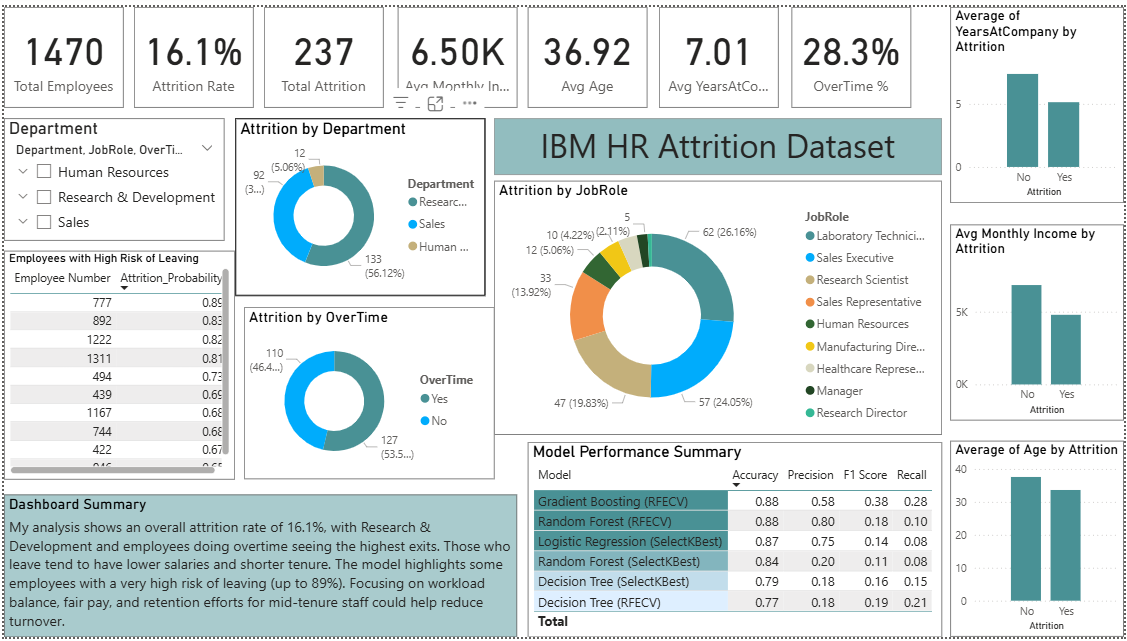

What the dashboard file says about the page in this screenshot:
{"tool":"powerbi","page":{"name":"Page 1","canvas":[1280,720],"ordinal":0},"visuals":[{"type":"tableEx","title":"Model Performance Summary","fields":{"Values":["model_summary.Model","model_summary.Accuracy","model_summary.Precision","model_summary.F1 Score","model_summary.Recall"]},"box":[598.3,496.7,473.3,223.3],"z":0},{"type":"card","fields":{"Values":["WA_Fn-UseC_-HR-Employee-Attrition.Attrition Rate"]},"box":[148.3,0,136.7,115],"z":1000},{"type":"card","fields":{"Values":["WA_Fn-UseC_-HR-Employee-Attrition.Total Employees"]},"box":[0,0,136.7,115],"z":2000},{"type":"card","fields":{"Values":["WA_Fn-UseC_-HR-Employee-Attrition.Total Attrition"]},"box":[296.7,0,136.7,115],"z":3000},{"type":"card","fields":{"Values":["WA_Fn-UseC_-HR-Employee-Attrition.Avg Monthly Income"]},"box":[450,0,136.7,115],"z":4000},{"type":"card","fields":{"Values":["WA_Fn-UseC_-HR-Employee-Attrition.Avg Age"]},"box":[598.3,0,136.7,115],"z":5000},{"type":"card","fields":{"Values":["WA_Fn-UseC_-HR-Employee-Attrition.Avg YearsAtCompany"]},"box":[748.3,0,136.7,115],"z":6000},{"type":"card","fields":{"Values":["WA_Fn-UseC_-HR-Employee-Attrition.OverTime %"]},"box":[900,0,136.7,115],"z":7000},{"type":"donutChart","title":"Attrition by Department","fields":{"Category":["WA_Fn-UseC_-HR-Employee-Attrition.Department"],"Y":["CountNonNull(WA_Fn-UseC_-HR-Employee-Attrition.Attrition)"]},"box":[263.7,126.9,286.1,202.8],"z":8000},{"type":"donutChart","title":"Attrition by JobRole","fields":{"Y":["CountNonNull(WA_Fn-UseC_-HR-Employee-Attrition.Attrition)"],"Category":["WA_Fn-UseC_-HR-Employee-Attrition.JobRole"]},"box":[560,198.3,511.7,290],"z":9000},{"type":"donutChart","title":"Attrition by OverTime","fields":{"Y":["CountNonNull(WA_Fn-UseC_-HR-Employee-Attrition.Attrition)"],"Category":["WA_Fn-UseC_-HR-Employee-Attrition.OverTime"]},"box":[273.7,343.3,286.1,196.5],"z":10000},{"type":"clusteredColumnChart","fields":{"Y":["WA_Fn-UseC_-HR-Employee-Attrition.Avg Monthly Income"],"Category":["WA_Fn-UseC_-HR-Employee-Attrition.Attrition"]},"box":[1082,248,198,224],"z":11000},{"type":"clusteredColumnChart","fields":{"Category":["WA_Fn-UseC_-HR-Employee-Attrition.Attrition"],"Y":["Avg(WA_Fn-UseC_-HR-Employee-Attrition.YearsAtCompany)"]},"box":[1082,0,198,224],"z":12000},{"type":"clusteredColumnChart","fields":{"Y":["Avg(WA_Fn-UseC_-HR-Employee-Attrition.Age)"],"Category":["WA_Fn-UseC_-HR-Employee-Attrition.Attrition"]},"box":[1082,496,198,224],"z":13000},{"type":"slicer","title":"Department","fields":{"Values":["WA_Fn-UseC_-HR-Employee-Attrition.Department","WA_Fn-UseC_-HR-Employee-Attrition.JobRole","WA_Fn-UseC_-HR-Employee-Attrition.OverTime"]},"box":[0,126.7,251.7,140],"z":14000},{"type":"tableEx","title":"Employees with High Risk of Leaving","fields":{"Values":["top10_risk_new.EmployeeIndex","top10_risk_new.Attrition_Probability"]},"box":[0,278.6,263.7,261.2],"z":15000},{"type":"textbox","title":"Dashboard Summary","box":[0,556.7,586.7,163.3],"z":16000},{"type":"textbox","box":[560,126.7,511.7,65],"z":17000}]}

Visuals, with their boxes in screenshot pixels (x1, y1, x2, y2), scaled from the page's 1280x720 canvas onto the 1127x641 screenshot:
"Model Performance Summary" tableEx: (527,442,944,640)
card - WA_Fn-UseC_-HR-Employee-Attrition.Attrition Rate: (131,0,251,102)
card - WA_Fn-UseC_-HR-Employee-Attrition.Total Employees: (0,0,120,102)
card - WA_Fn-UseC_-HR-Employee-Attrition.Total Attrition: (261,0,382,102)
card - WA_Fn-UseC_-HR-Employee-Attrition.Avg Monthly Income: (396,0,517,102)
card - WA_Fn-UseC_-HR-Employee-Attrition.Avg Age: (527,0,647,102)
card - WA_Fn-UseC_-HR-Employee-Attrition.Avg YearsAtCompany: (659,0,779,102)
card - WA_Fn-UseC_-HR-Employee-Attrition.OverTime %: (792,0,913,102)
"Attrition by Department" donutChart: (232,113,484,294)
"Attrition by JobRole" donutChart: (493,177,944,435)
"Attrition by OverTime" donutChart: (241,306,493,481)
clusteredColumnChart - WA_Fn-UseC_-HR-Employee-Attrition.Avg Monthly Income x WA_Fn-UseC_-HR-Employee-Attrition.Attrition: (953,221,1126,420)
clusteredColumnChart - WA_Fn-UseC_-HR-Employee-Attrition.Attrition x Avg(WA_Fn-UseC_-HR-Employee-Attrition.YearsAtCompany): (953,0,1126,199)
clusteredColumnChart - Avg(WA_Fn-UseC_-HR-Employee-Attrition.Age) x WA_Fn-UseC_-HR-Employee-Attrition.Attrition: (953,442,1126,640)
"Department" slicer: (0,113,222,237)
"Employees with High Risk of Leaving" tableEx: (0,248,232,481)
"Dashboard Summary" textbox: (0,496,517,640)
textbox: (493,113,944,171)
